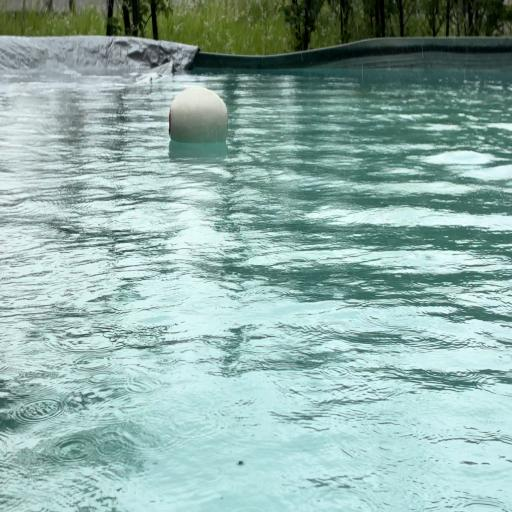white buoy: (169, 86, 228, 143)
